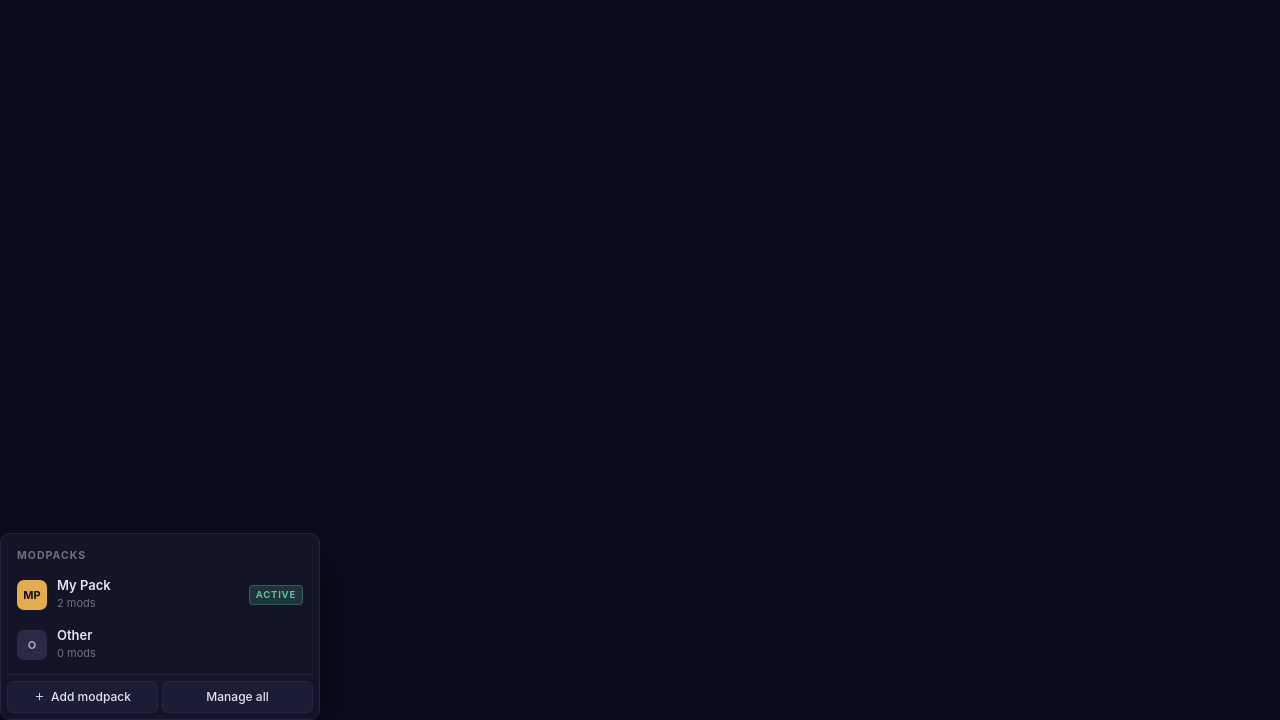
<ProfileSwitcher> › keeps the current profile active when drift confirmation is cancelled
(page scrolled)
Expected: the text "ACTIVE" is shown, [249,585,303,605]
Step 1. Click the text "Other" → {"x": 75, "y": 635}, box [57,627,92,643]
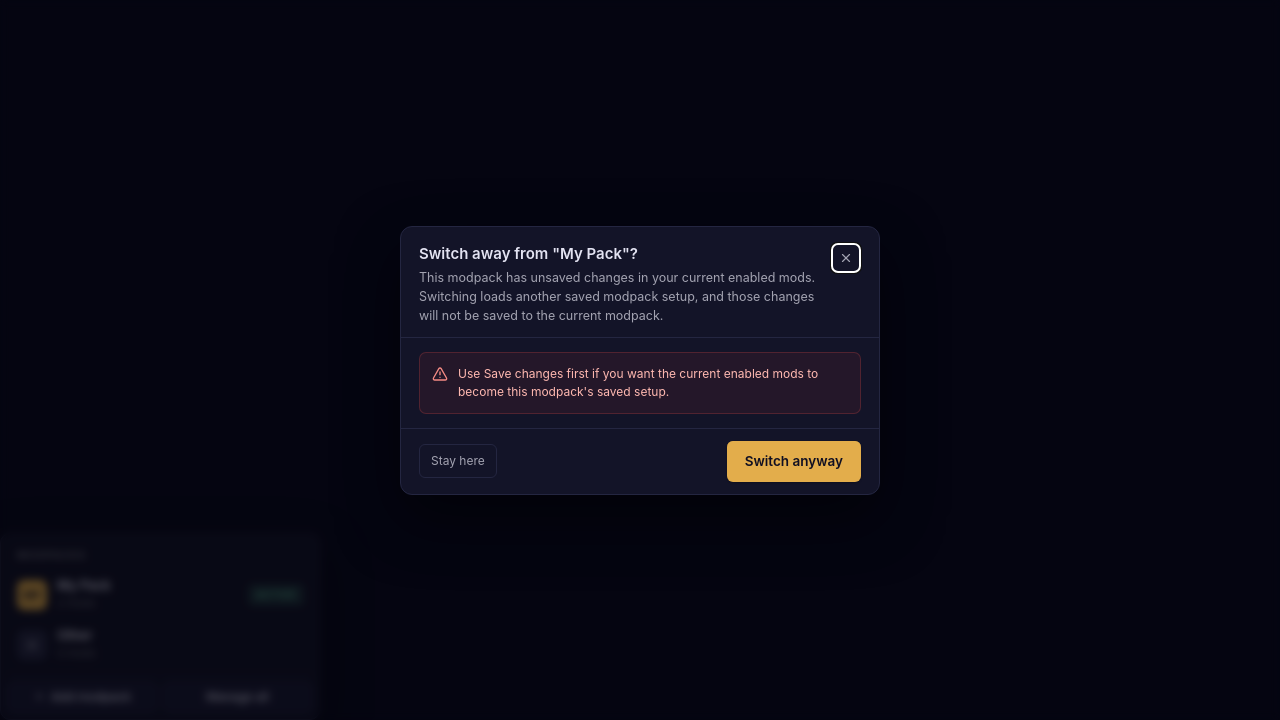
Expected: the text "Switch away from \"My Pack\"?" is shown, [419,244,638,262]
Step 2. Click the button "Stay here" → {"x": 458, "y": 461}, box [419,444,497,478]
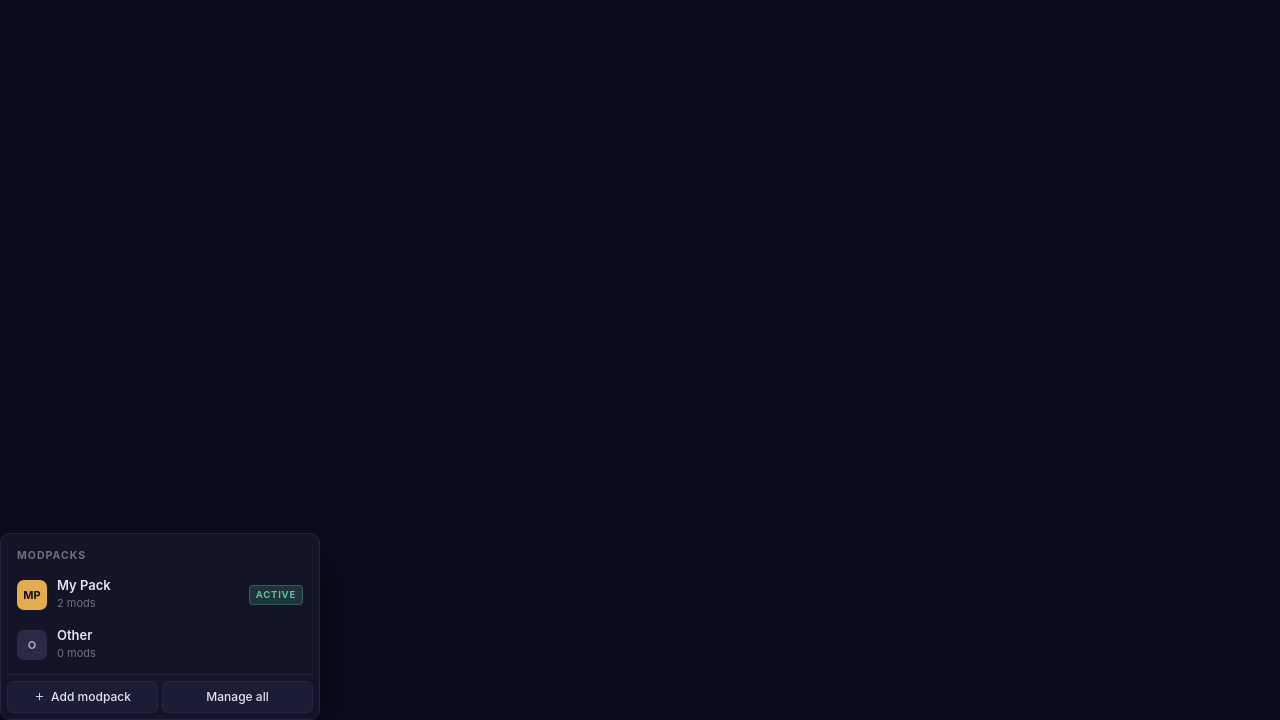
Expected: the text "Switch away from \"My Pack\"" is gone
